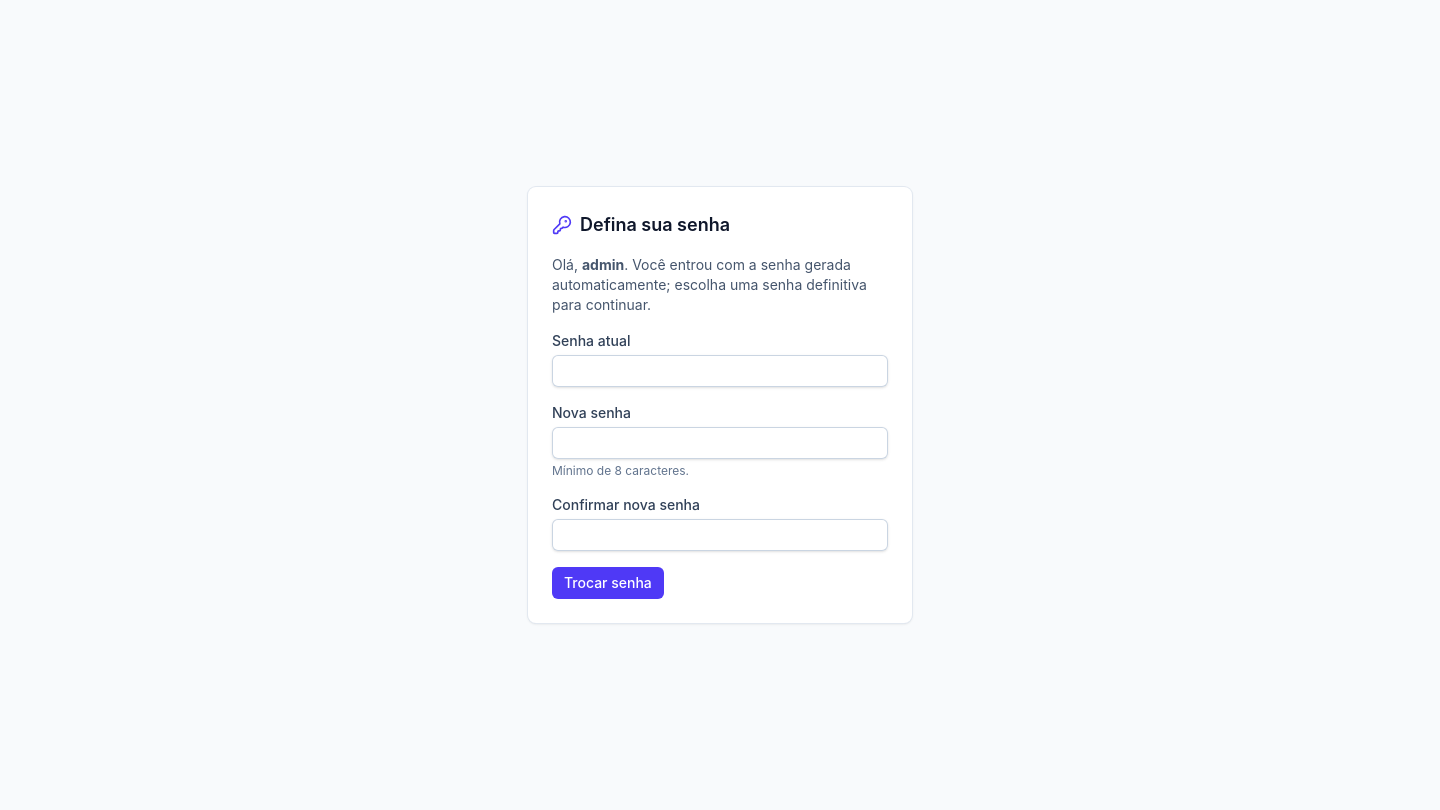
authentication gate › forces a password change when the admin password was generated
Expected: the heading "Defina sua senha" is shown, [580,211,730,239]
Type "gerada-abc" into the password field labelled "Senha atual" at (720, 371), box [552,355,888,387]
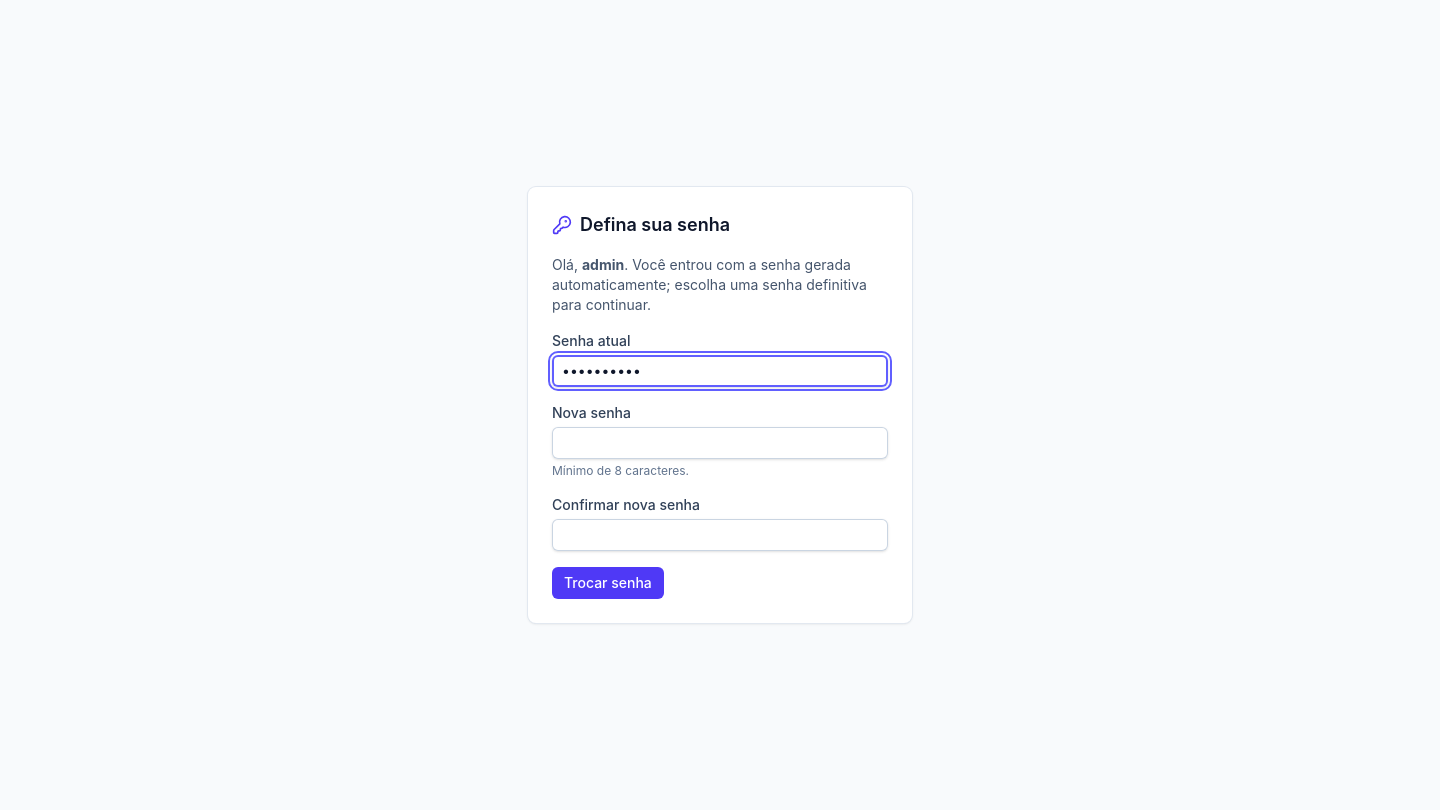
Type "nova-senha-1" into the password field labelled "Nova senha" at (720, 443), box [552,427,888,459]
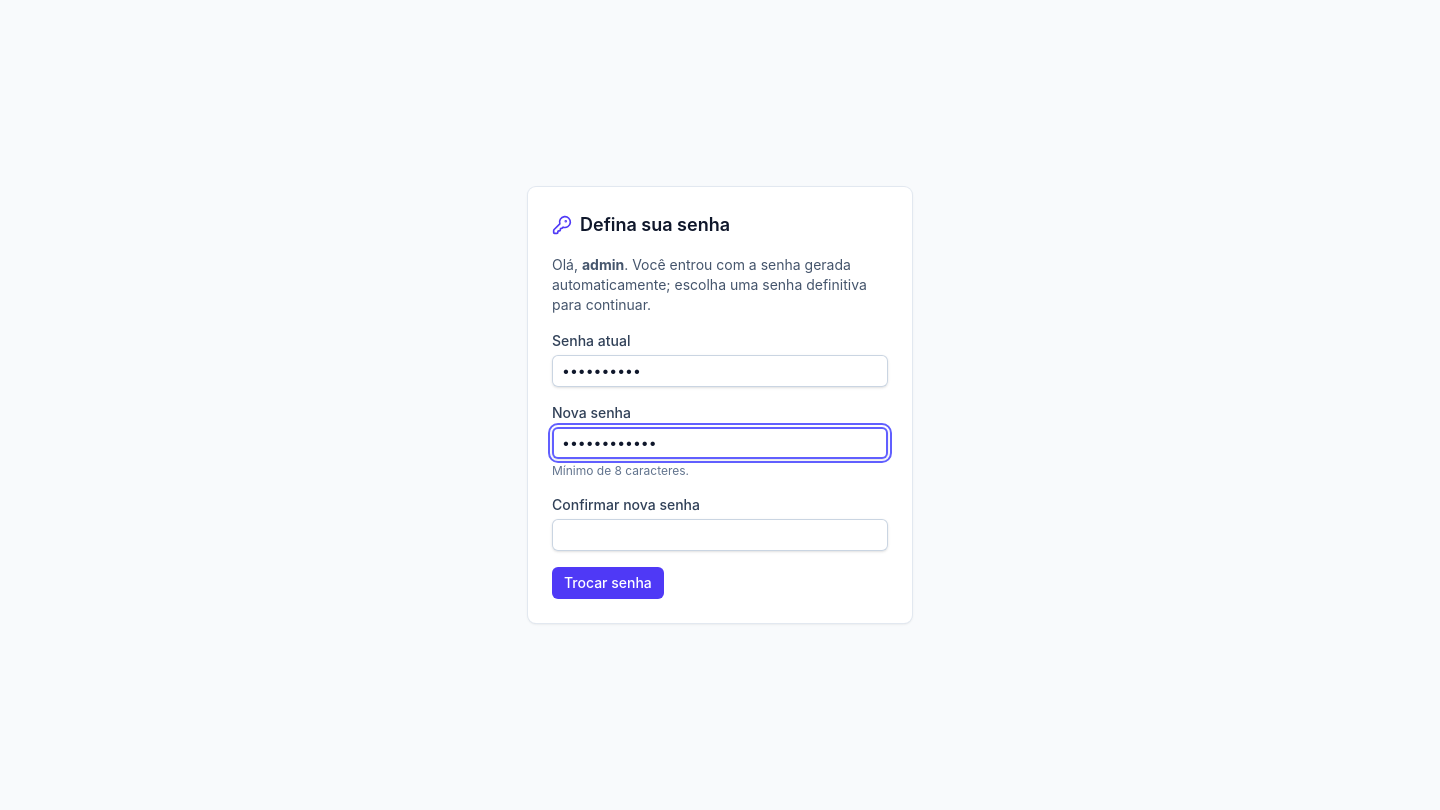
Type "nova-senha-1" into the password field labelled "Confirmar nova senha" at (720, 535), box [552,519,888,551]
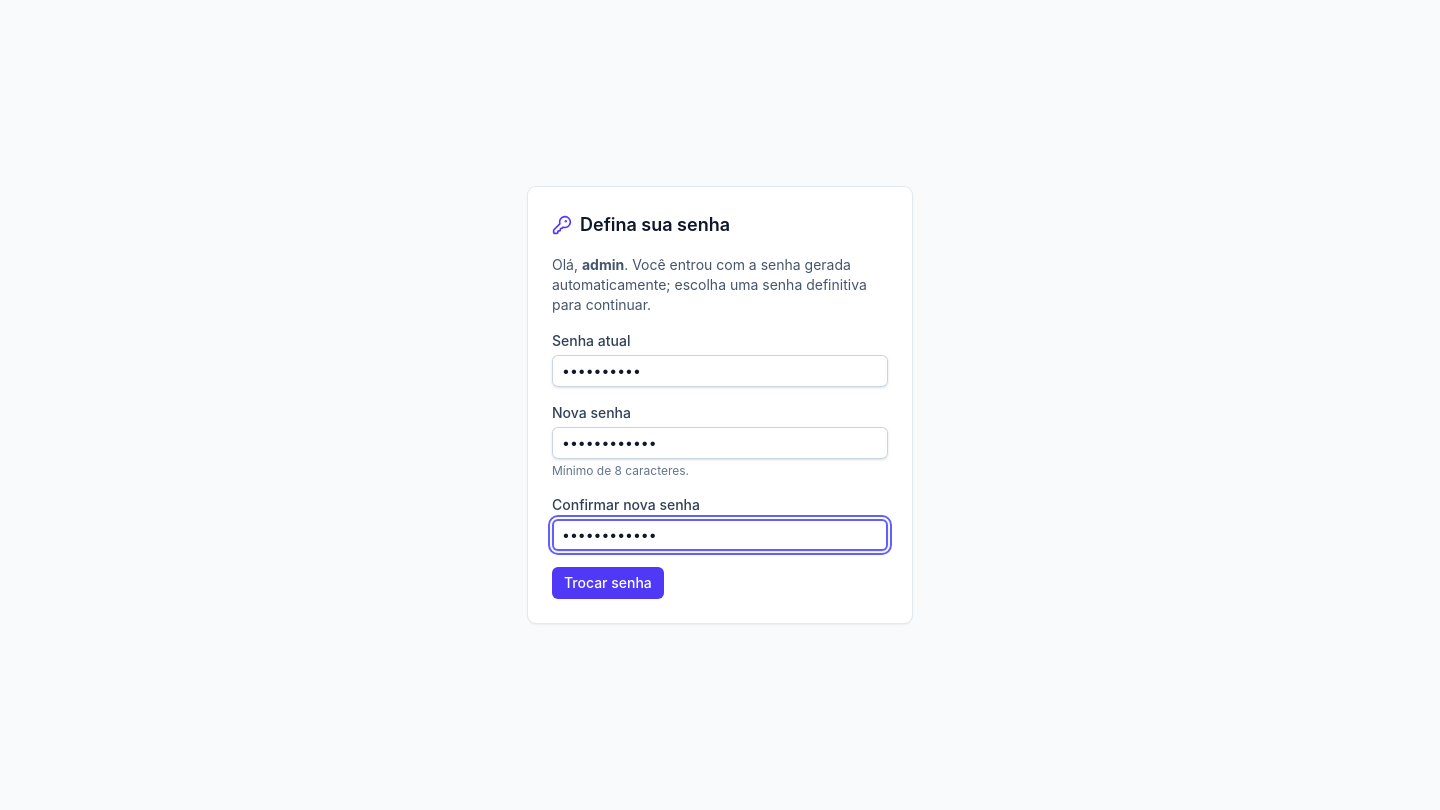
Click the button "Trocar senha" at (608, 583), box [552,567,664,599]
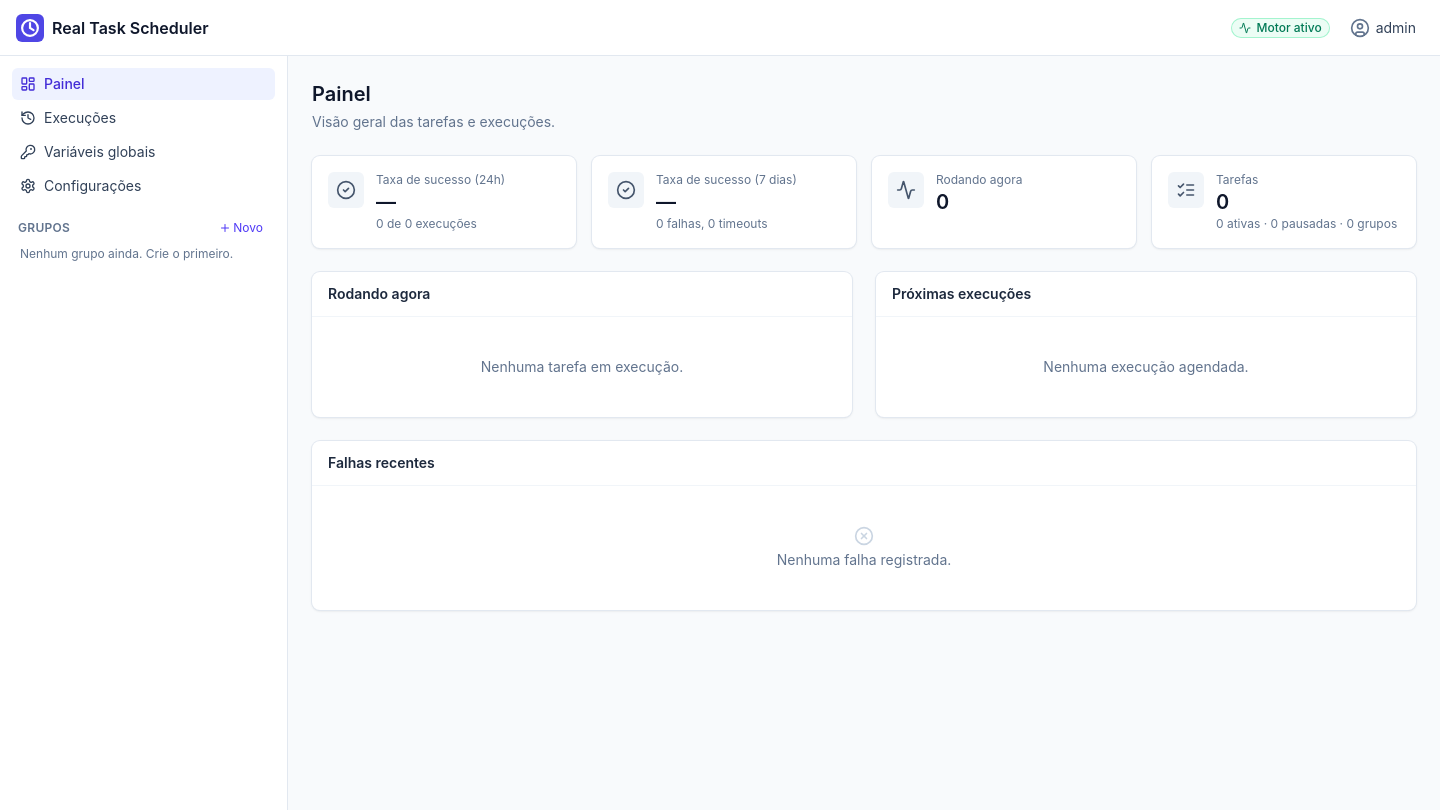
Expected: the heading "Painel" is shown, [312,80,371,108]
